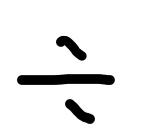div: (16, 34, 115, 122)
